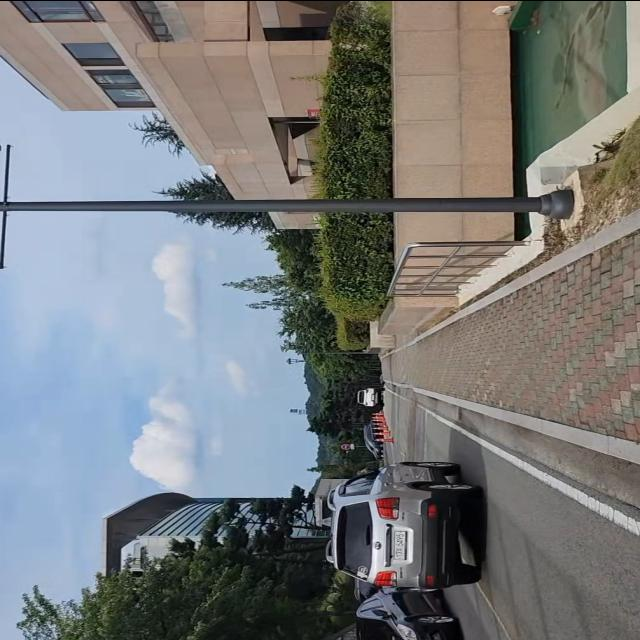obstacle: (0, 143, 578, 272), (317, 453, 494, 596), (346, 575, 472, 640), (352, 381, 382, 412)
road: (382, 385, 640, 640)
sidewalk: (381, 212, 640, 462)
